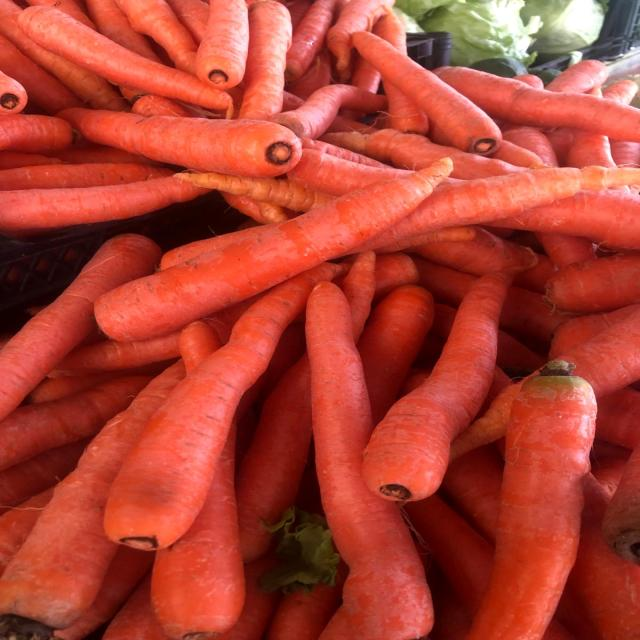carrot: (76, 255, 352, 558), (89, 154, 463, 348), (448, 349, 615, 640), (49, 93, 326, 184), (339, 24, 512, 166)
